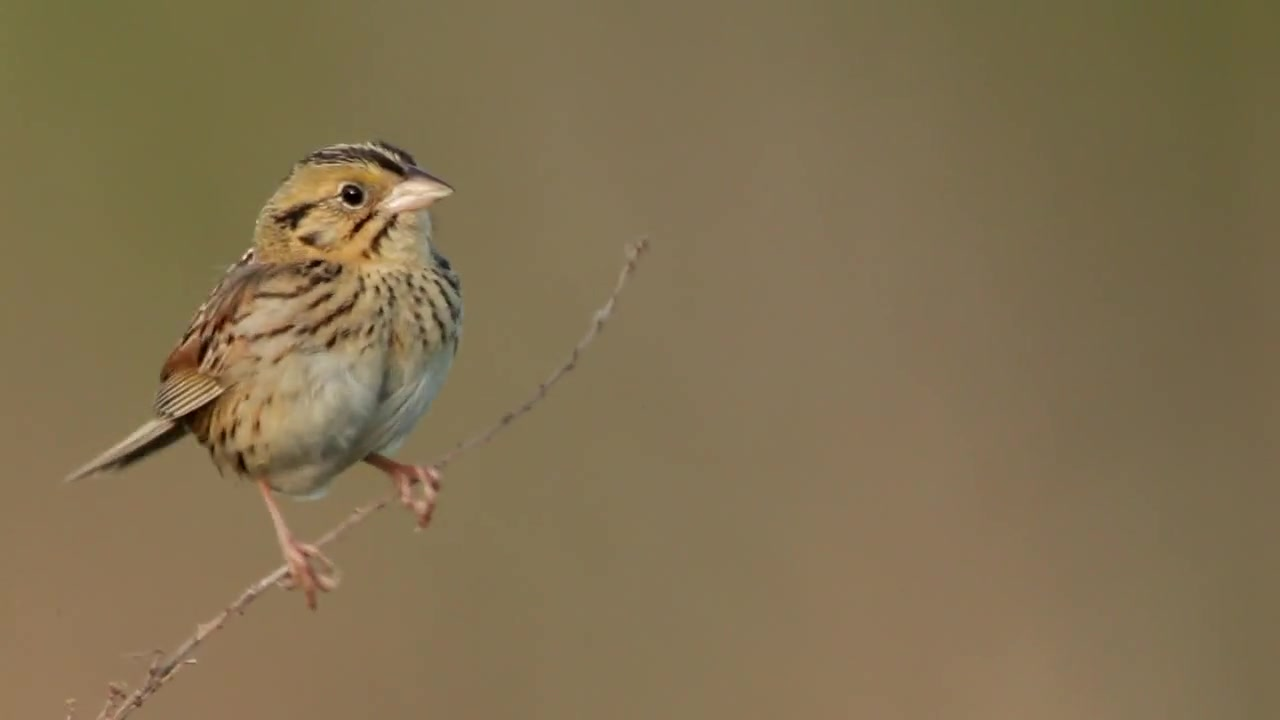bird: (66, 142, 466, 608)
